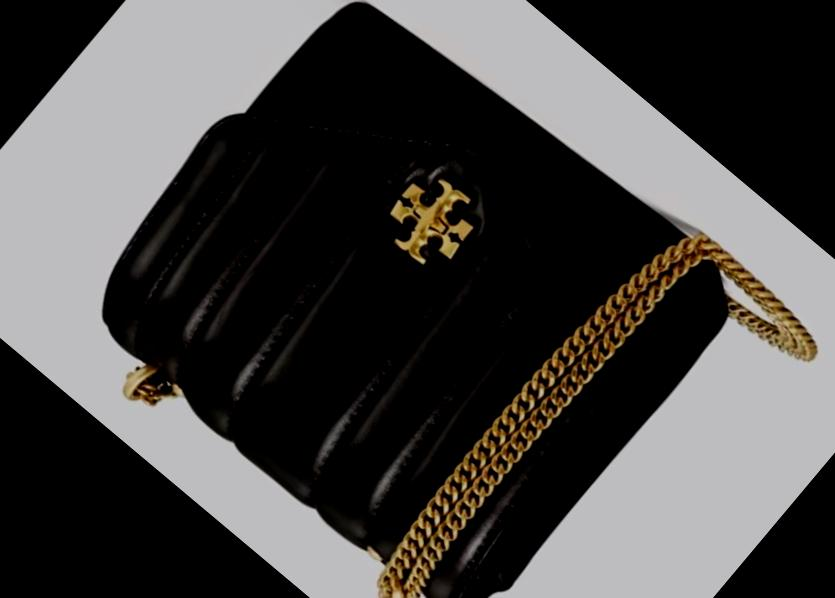TORY-BURCH: (374, 162, 488, 276)
